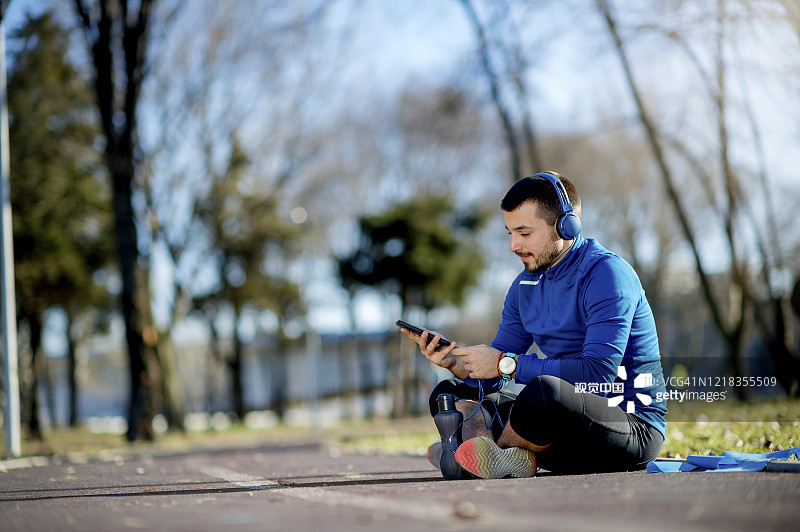reading: (392, 312, 509, 387)
